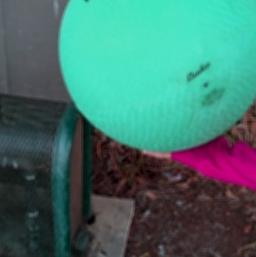algae: (54, 0, 256, 151)
